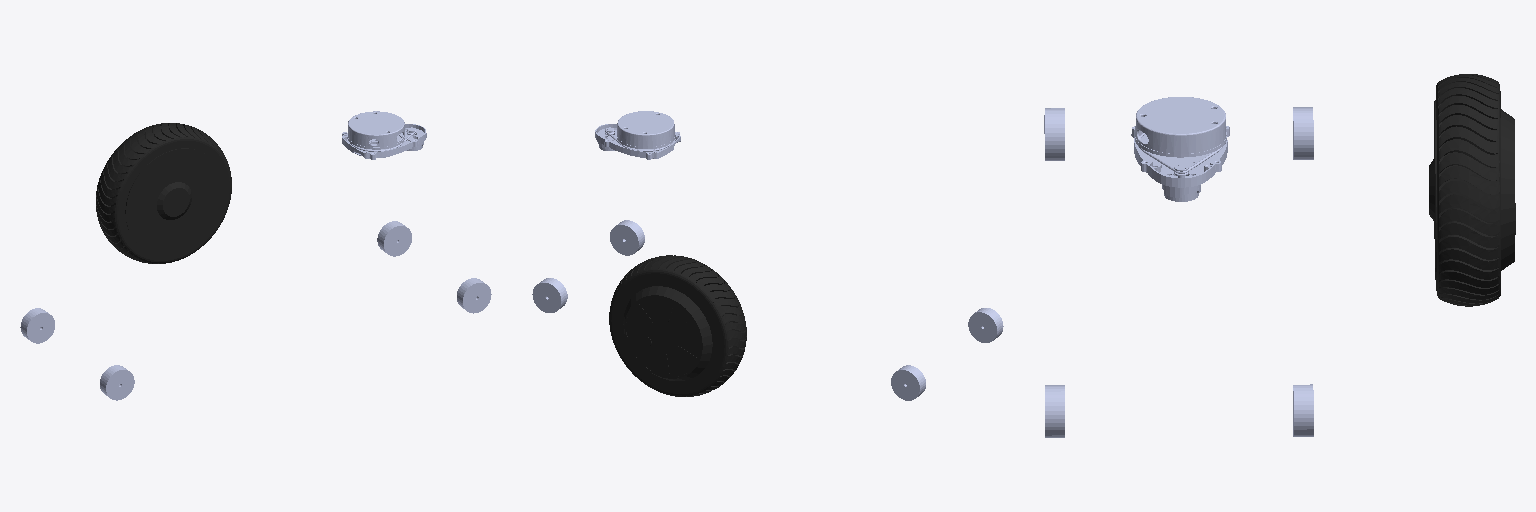
robot.urdf — robo6:
<?xml version="1.0" encoding="utf-8"?>
<!-- This URDF was automatically created by SolidWorks to URDF Exporter! Originally created by Stephen Brawner (brawner@gmail.com) 
     Commit Version: 1.6.0-4-g7f85cfe  Build Version: 1.6.7995.38578
     For more information, please see http://wiki.ros.org/sw_urdf_exporter -->
<robot
  name="robo6">
  <link
    name="base_link">
    <inertial>
      <origin
        xyz="0.0609873465435059 -0.0042720180668343 0.192002477319748"
        rpy="0 0 0" />
      <mass
        value="10.7461590775536" />
      <inertia
        ixx="0.0658348708495786"
        ixy="-0.000232092057597344"
        ixz="0.00132811024831012"
        iyy="0.0852681806048574"
        iyz="6.44620982702778E-06"
        izz="0.0791424392229436" />
    </inertial>
    <visual>
      <origin
        xyz="0 0 0"
        rpy="0 0 0" />
      <geometry>
        <mesh
          filename="package://robo6/meshes/base_link.STL" />
      </geometry>
      <material
        name="">
        <color
          rgba="0.752941176470588 0.752941176470588 0.752941176470588 1" />
      </material>
    </visual>
    <collision>
      <origin
        xyz="0 0 0"
        rpy="0 0 0" />
      <geometry>
        <mesh
          filename="package://robo6/meshes/base_link.STL" />
      </geometry>
    </collision>
  </link>
  <link
    name="lidar_link">
    <inertial>
      <origin
        xyz="0.014838317136636 0.000447683430934598 -0.0211536208226492"
        rpy="0 0 0" />
      <mass
        value="0.0312409127406479" />
      <inertia
        ixx="8.88026370810988E-06"
        ixy="-1.77664494330509E-07"
        ixz="1.1302767991709E-07"
        iyy="1.44910018205434E-05"
        iyz="3.4607611499583E-08"
        izz="2.25289099520269E-05" />
    </inertial>
    <visual>
      <origin
        xyz="0 0 0"
        rpy="0 0 0" />
      <geometry>
        <mesh
          filename="package://robo6/meshes/lidar_link.STL" />
      </geometry>
      <material
        name="">
        <color
          rgba="0.792156862745098 0.819607843137255 0.933333333333333 1" />
      </material>
    </visual>
    <collision>
      <origin
        xyz="0 0 0"
        rpy="0 0 0" />
      <geometry>
        <mesh
          filename="package://robo6/meshes/lidar_link.STL" />
      </geometry>
    </collision>
  </link>
  <joint
    name="lidar"
    type="fixed">
    <origin
      xyz="0.155666725643582 0.00112777065633451 0.146099999998099"
      rpy="0 0 0" />
    <parent
      link="base_link" />
    <child
      link="lidar_link" />
    <axis
      xyz="0 0 0" />
  </joint>
  <link
    name="imu_link">
    <inertial>
      <origin
        xyz="-0.000128980117749644 -0.000191495597999441 -0.00384070509348644"
        rpy="0 0 0" />
      <mass
        value="0.000999898118986829" />
      <inertia
        ixx="2.50447716935415E-08"
        ixy="1.03965056246903E-10"
        ixz="-2.68560481478177E-14"
        iyy="1.2451353550853E-08"
        iyz="-1.18565423258819E-14"
        izz="3.06376353115898E-08" />
    </inertial>
    <visual>
      <origin
        xyz="0 0 0"
        rpy="0 0 0" />
      <geometry>
        <mesh
          filename="package://robo6/meshes/imu_link.STL" />
      </geometry>
      <material
        name="">
        <color
          rgba="0.792156862745098 0.819607843137255 0.933333333333333 1" />
      </material>
    </visual>
    <collision>
      <origin
        xyz="0 0 0"
        rpy="0 0 0" />
      <geometry>
        <mesh
          filename="package://robo6/meshes/imu_link.STL" />
      </geometry>
    </collision>
  </link>
  <joint
    name="imu"
    type="fixed">
    <origin
      xyz="0.126428933055049 -0.100523077234269 0.0330200000034927"
      rpy="0 0 0" />
    <parent
      link="base_link" />
    <child
      link="imu_link" />
    <axis
      xyz="0 0 0" />
  </joint>
  <link
    name="right_wheel_link">
    <inertial>
      <origin
        xyz="0.000243587829778402 -0.0295000990455643 8.01160804364542E-11"
        rpy="0 0 0" />
      <mass
        value="0.98170665090244" />
      <inertia
        ixx="0.00165298851738423"
        ixy="-1.0124915182157E-05"
        ixz="1.30270760846534E-08"
        iyy="0.00287861950962305"
        iyz="5.32883625879585E-10"
        izz="0.00165292257365774" />
    </inertial>
    <visual>
      <origin
        xyz="0 0 0"
        rpy="0 0 0" />
      <geometry>
        <mesh
          filename="package://robo6/meshes/right_wheel_link.STL" />
      </geometry>
      <material
        name="">
        <color
          rgba="0.2 0.2 0.2 1" />
      </material>
    </visual>
    <collision>
      <origin
        xyz="0 0 0"
        rpy="0 0 0" />
      <geometry>
        <mesh
          filename="package://robo6/meshes/right_wheel_link.STL" />
      </geometry>
    </collision>
  </link>
  <joint
    name="right_wheel"
    type="continuous">
    <origin
      xyz="0.0015756 -0.17502 0.015"
      rpy="0 0 0" />
    <parent
      link="base_link" />
    <child
      link="right_wheel_link" />
    <axis
      xyz="0 1 0" />
  </joint>
  <link
    name="left_wheel_link">
    <inertial>
      <origin
        xyz="-0.000243587829778624 0.0295000990455638 8.01149702134296E-11"
        rpy="0 0 0" />
      <mass
        value="0.981706650902443" />
      <inertia
        ixx="0.00165299120834847"
        ixy="-1.01249109871006E-05"
        ixz="-1.4498411509309E-08"
        iyy="0.00287861950901393"
        iyz="7.25004217194345E-11"
        izz="0.00165291988234476" />
    </inertial>
    <visual>
      <origin
        xyz="0 0 0"
        rpy="0 0 0" />
      <geometry>
        <mesh
          filename="package://robo6/meshes/left_wheel_link.STL" />
      </geometry>
      <material
        name="">
        <color
          rgba="0.2 0.2 0.2 1" />
      </material>
    </visual>
    <collision>
      <origin
        xyz="0 0 0"
        rpy="0 0 0" />
      <geometry>
        <mesh
          filename="package://robo6/meshes/left_wheel_link.STL" />
      </geometry>
    </collision>
  </link>
  <joint
    name="left_wheel"
    type="continuous">
    <origin
      xyz="-0.0013143 0.17497 0.015"
      rpy="0 0 0" />
    <parent
      link="base_link" />
    <child
      link="left_wheel_link" />
    <axis
      xyz="0 1 0" />
  </joint>
  <link
    name="camera_link">
    <inertial>
      <origin
        xyz="-0.0286974043856941 -0.0031532314154305 -0.00696427170361824"
        rpy="0 0 0" />
      <mass
        value="0.646454884722171" />
      <inertia
        ixx="0.0028423827313704"
        ixy="1.87273045722636E-05"
        ixz="1.48075090936092E-07"
        iyy="0.000263758634244186"
        iyz="-3.33736128214421E-08"
        izz="0.00296274058967308" />
    </inertial>
    <visual>
      <origin
        xyz="0 0 0"
        rpy="0 0 0" />
      <geometry>
        <mesh
          filename="package://robo6/meshes/camera_link.STL" />
      </geometry>
      <material
        name="">
        <color
          rgba="0.752941176470588 0.752941176470588 0.752941176470588 1" />
      </material>
    </visual>
    <collision>
      <origin
        xyz="0 0 0"
        rpy="0 0 0" />
      <geometry>
        <mesh
          filename="package://robo6/meshes/camera_link.STL" />
      </geometry>
    </collision>
  </link>
  <joint
    name="cam"
    type="fixed">
    <origin
      xyz="0.264952270554911 0.00535821231736117 0.284425164615102"
      rpy="0 0 0" />
    <parent
      link="base_link" />
    <child
      link="camera_link" />
    <axis
      xyz="0 0 0" />
  </joint>
  <link
    name="caster1_link">
    <inertial>
      <origin
        xyz="0.000150551872814764 -0.00699899549443067 0.0184997674634719"
        rpy="0 0 0" />
      <mass
        value="0.0148770120110745" />
      <inertia
        ixx="1.53085377929143E-06"
        ixy="-8.6265278990257E-09"
        ixz="4.01416150248248E-22"
        iyy="2.57551147351535E-06"
        iyz="-3.00870099998902E-21"
        izz="1.53078254838952E-06" />
    </inertial>
    <visual>
      <origin
        xyz="0 0 0"
        rpy="0 0 0" />
      <geometry>
        <mesh
          filename="package://robo6/meshes/caster1_link.STL" />
      </geometry>
      <material
        name="">
        <color
          rgba="0.792156862745098 0.819607843137255 0.933333333333333 1" />
      </material>
    </visual>
    <collision>
      <origin
        xyz="0 0 0"
        rpy="0 0 0" />
      <geometry>
        <mesh
          filename="package://robo6/meshes/caster1_link.STL" />
      </geometry>
    </collision>
  </link>
  <joint
    name="caster1"
    type="fixed">
    <origin
      xyz="0.23025 -0.08 -0.06645"
      rpy="0 0 0" />
    <parent
      link="base_link" />
    <child
      link="caster1_link" />
    <axis
      xyz="0 0 0" />
  </joint>
  <link
    name="caster2_link">
    <inertial>
      <origin
        xyz="0.000150551872814653 -0.00699899549443067 0.0184997674634719"
        rpy="0 0 0" />
      <mass
        value="0.0148770120110745" />
      <inertia
        ixx="1.53085377929143E-06"
        ixy="-8.62652789902565E-09"
        ixz="4.01416150248248E-22"
        iyy="2.57551147351535E-06"
        iyz="-3.02803575989493E-21"
        izz="1.53078254838952E-06" />
    </inertial>
    <visual>
      <origin
        xyz="0 0 0"
        rpy="0 0 0" />
      <geometry>
        <mesh
          filename="package://robo6/meshes/caster2_link.STL" />
      </geometry>
      <material
        name="">
        <color
          rgba="0.792156862745098 0.819607843137255 0.933333333333333 1" />
      </material>
    </visual>
    <collision>
      <origin
        xyz="0 0 0"
        rpy="0 0 0" />
      <geometry>
        <mesh
          filename="package://robo6/meshes/caster2_link.STL" />
      </geometry>
    </collision>
  </link>
  <joint
    name="caster2"
    type="fixed">
    <origin
      xyz="0.22881 0.093995 -0.06645"
      rpy="0 0 0" />
    <parent
      link="base_link" />
    <child
      link="caster2_link" />
    <axis
      xyz="0 0 0" />
  </joint>
  <link
    name="caster3_link">
    <inertial>
      <origin
        xyz="-3.49551177891705E-05 -0.00700052726137185 0.0184997674634719"
        rpy="0 0 0" />
      <mass
        value="0.0148770120110745" />
      <inertia
        ixx="1.53085377929143E-06"
        ixy="-8.62652789902388E-09"
        ixz="-3.81555401340688E-22"
        iyy="2.57551147351535E-06"
        iyz="2.97513809634215E-21"
        izz="1.53078254838952E-06" />
    </inertial>
    <visual>
      <origin
        xyz="0 0 0"
        rpy="0 0 0" />
      <geometry>
        <mesh
          filename="package://robo6/meshes/caster3_link.STL" />
      </geometry>
      <material
        name="">
        <color
          rgba="0.792156862745098 0.819607843137255 0.933333333333333 1" />
      </material>
    </visual>
    <collision>
      <origin
        xyz="0 0 0"
        rpy="0 0 0" />
      <geometry>
        <mesh
          filename="package://robo6/meshes/caster3_link.STL" />
      </geometry>
    </collision>
  </link>
  <joint
    name="caster"
    type="fixed">
    <origin
      xyz="-0.22867 -0.080047 -0.06645"
      rpy="0 0 0" />
    <parent
      link="base_link" />
    <child
      link="caster3_link" />
    <axis
      xyz="0 0 0" />
  </joint>
  <link
    name="caster4_link">
    <inertial>
      <origin
        xyz="-3.49551177889484E-05 -0.0070005272613719 0.0184997674634718"
        rpy="0 0 0" />
      <mass
        value="0.0148770120110745" />
      <inertia
        ixx="1.53085377929143E-06"
        ixy="-8.62652789902401E-09"
        ixz="-2.98847437504973E-22"
        iyy="2.57551147351535E-06"
        iyz="2.96781831469385E-21"
        izz="1.53078254838952E-06" />
    </inertial>
    <visual>
      <origin
        xyz="0 0 0"
        rpy="0 0 0" />
      <geometry>
        <mesh
          filename="package://robo6/meshes/caster4_link.STL" />
      </geometry>
      <material
        name="">
        <color
          rgba="0.792156862745098 0.819607843137255 0.933333333333333 1" />
      </material>
    </visual>
    <collision>
      <origin
        xyz="0 0 0"
        rpy="0 0 0" />
      <geometry>
        <mesh
          filename="package://robo6/meshes/caster4_link.STL" />
      </geometry>
    </collision>
  </link>
  <joint
    name="caster4"
    type="fixed">
    <origin
      xyz="-0.2301 0.093947 -0.06645"
      rpy="0 0 0" />
    <parent
      link="base_link" />
    <child
      link="caster4_link" />
    <axis
      xyz="0 0 0" />
  </joint>
</robot>

--- What the picture shows (computed from the rendered views, not written in the file) ---
3 views of the same robot in one strip: view 1: azimuth 30°, elevation 25°; view 2: azimuth 150°, elevation 25°; view 3: azimuth 270°, elevation 25° (orthographic).
Robot: robo6 — 10 links, 9 joints (2 continuous, 7 fixed); root link base_link; default pose: all joints at 0.
Visible links, largest first — view 1: left_wheel_link, lidar_link, caster2_link, caster3_link, caster1_link, caster4_link; view 2: left_wheel_link, lidar_link, caster1_link, caster4_link, caster3_link, caster2_link; view 3: left_wheel_link, lidar_link, caster4_link, caster2_link, caster3_link, caster1_link.
Link boxes in pixels (x1,y1,x2,y2): left_wheel_link: (96, 123, 231, 263); lidar_link: (342, 111, 426, 159); caster2_link: (377, 221, 411, 256); caster3_link: (100, 365, 134, 400); caster1_link: (457, 278, 491, 313); caster4_link: (20, 308, 54, 343); left_wheel_link: (609, 255, 746, 396); lidar_link: (595, 111, 680, 159); caster1_link: (610, 220, 644, 255); caster4_link: (891, 365, 925, 400); caster3_link: (968, 308, 1003, 342); caster2_link: (532, 278, 567, 312); left_wheel_link: (1429, 74, 1515, 306); lidar_link: (1131, 97, 1229, 201); caster4_link: (1293, 107, 1313, 159); caster2_link: (1293, 384, 1313, 436); caster3_link: (1044, 108, 1064, 160); caster1_link: (1045, 385, 1064, 437).
Size in the robot's own frame: 0.4976 by 0.3296 by 0.2126 metres.
Meshes: 10 distinct files referenced, 6 mesh visuals loaded (6 binary STL); not drawn: 4 (reference not matched to a file when rendering).
